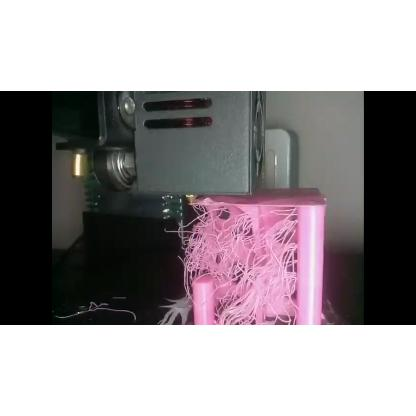fail: (170, 206, 298, 324)
